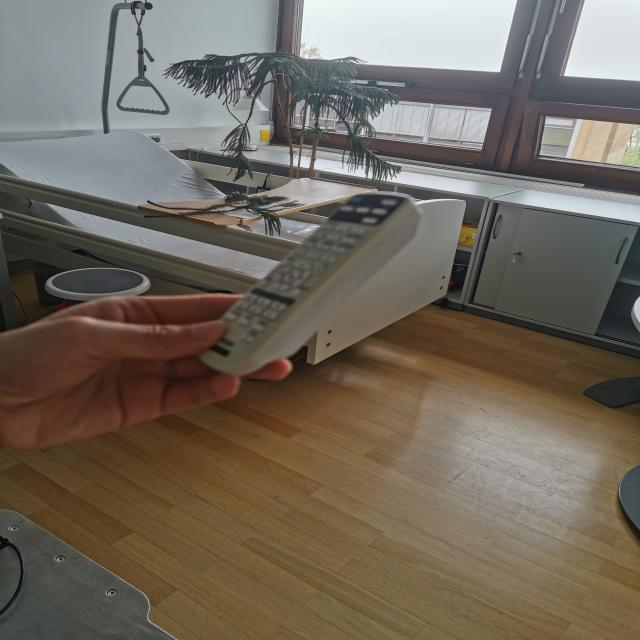remote: (202, 190, 424, 372)
